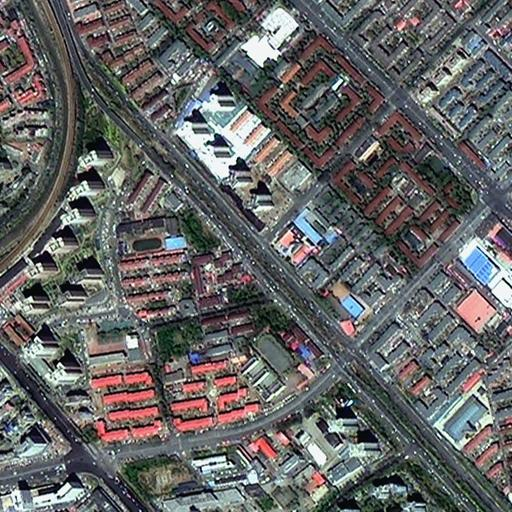school: (114, 209, 191, 257)
